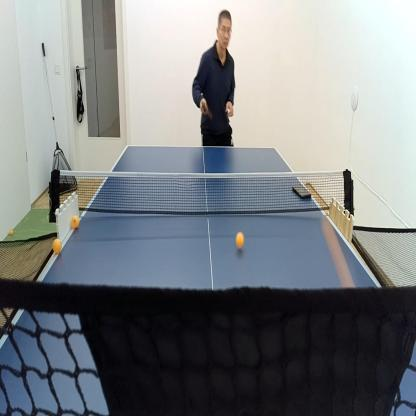Ball: (322, 212, 354, 288), (53, 239, 61, 255), (237, 232, 244, 249), (71, 216, 79, 229), (9, 229, 13, 236)
